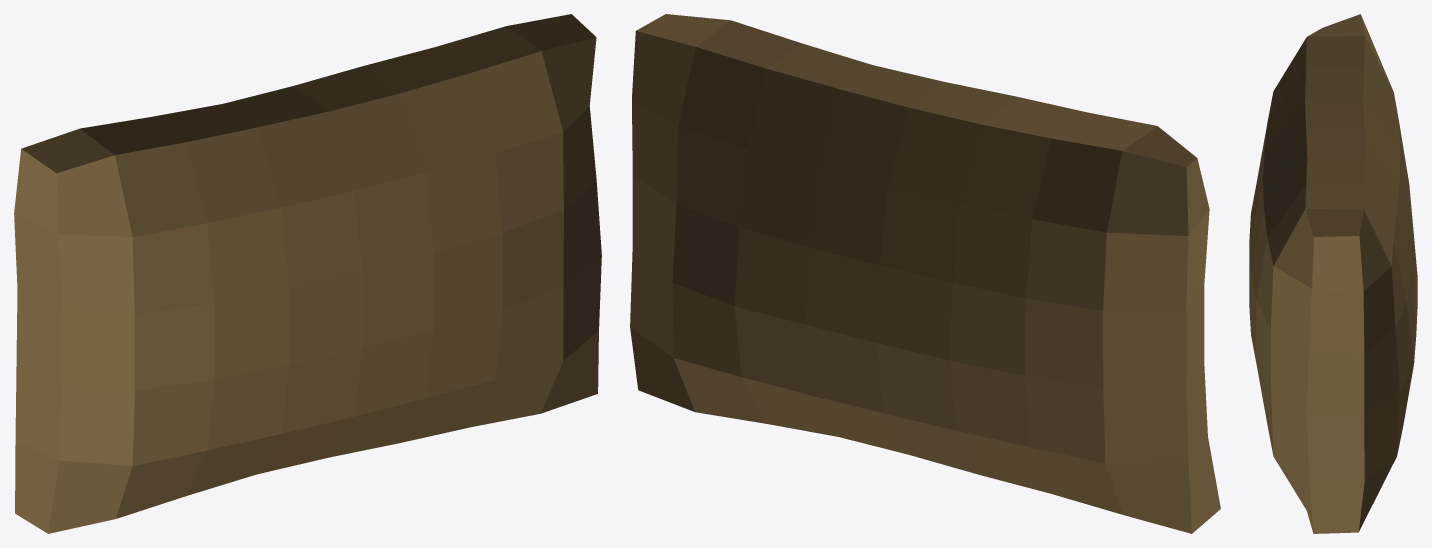
Rendered from Pillow 16.fbx.
3 renders of one model, left to right at view 1: azimuth 30°, elevation 25°; view 2: azimuth 150°, elevation 25°; view 3: azimuth 270°, elevation 25°, orthographic. The views are drawn at different scales.
Visible parts, largest first — view 1: Node 0; view 2: Node 0; view 3: Node 0.
Boxes of the visible parts, x1,y1,x2,y2 form: Node 0: [14, 14, 601, 533]; Node 0: [630, 14, 1220, 533]; Node 0: [1249, 14, 1417, 533].
Size of the model in its own units: 0.2398 by 0.4792 by 0.7626.
